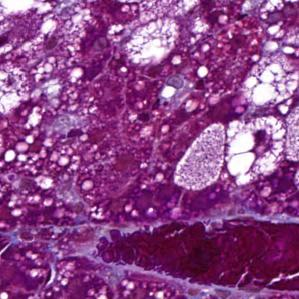ballooning: (224, 112, 290, 189), (242, 50, 297, 108), (125, 18, 181, 68)
